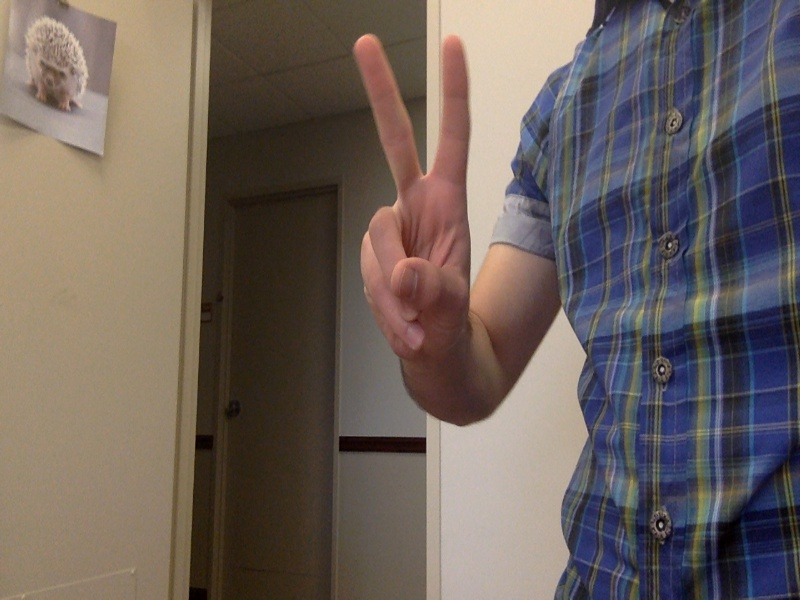2-hand: (350, 32, 473, 368)
